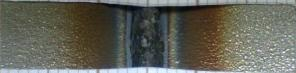soldas: (84, 3, 219, 70)
